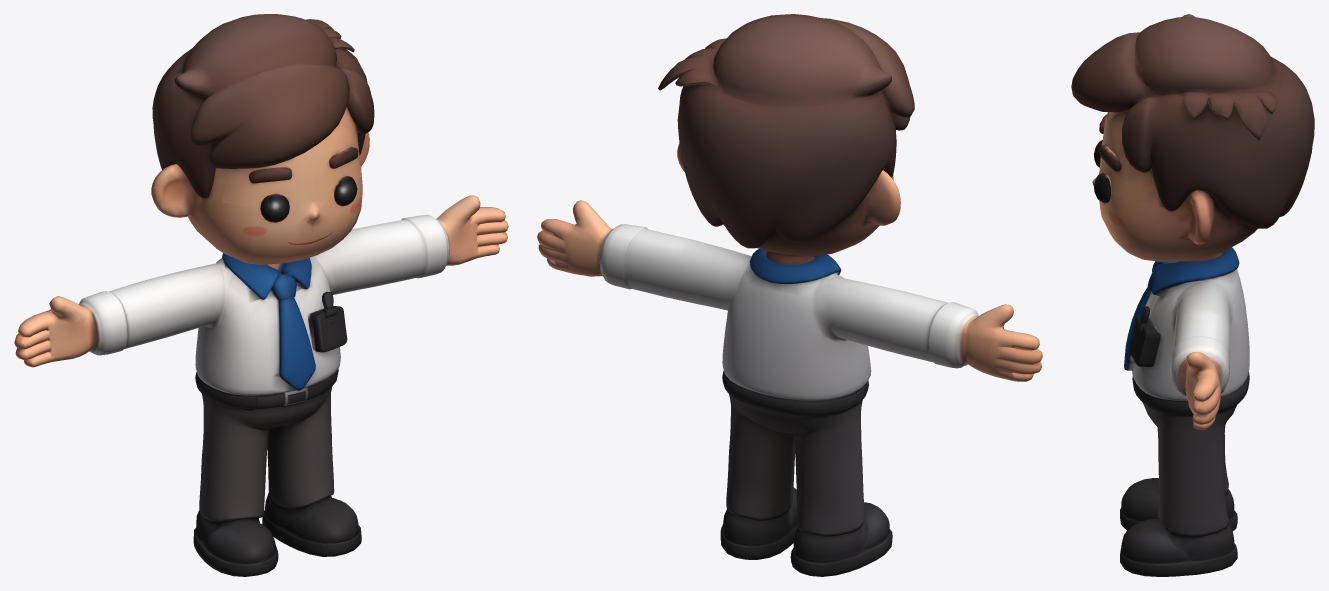
The model's file is office_worker_3d_model.fbx.
3 views of the same model, side by side, from view 1: azimuth 30°, elevation 25°; view 2: azimuth 150°, elevation 25°; view 3: azimuth 270°, elevation 25° (orthographic). The views are drawn at different scales.
Parts seen in each view (by area): view 1: tripo_00f6400d_d5da_4ba4_97ad_cf52fa975313; view 2: tripo_00f6400d_d5da_4ba4_97ad_cf52fa975313; view 3: tripo_00f6400d_d5da_4ba4_97ad_cf52fa975313.
Part boxes in pixels (x1,y1,x2,y2): tripo_00f6400d_d5da_4ba4_97ad_cf52fa975313: [14, 14, 508, 576]; tripo_00f6400d_d5da_4ba4_97ad_cf52fa975313: [537, 14, 1042, 576]; tripo_00f6400d_d5da_4ba4_97ad_cf52fa975313: [1071, 14, 1314, 576].
Bounding box in the file's own units: 0.9995 × 0.9995 × 0.4282.
Materials: 1 (1 with a texture image).
